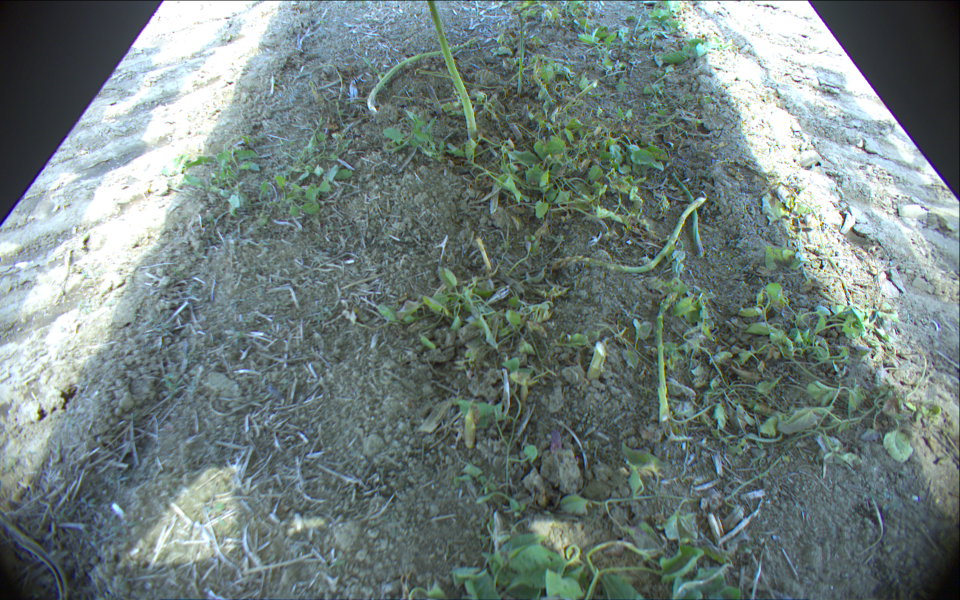aspa: (549, 193, 708, 270), (367, 37, 473, 114), (424, 1, 477, 141), (654, 290, 678, 421), (673, 171, 705, 258), (512, 8, 525, 96), (587, 342, 607, 379)
